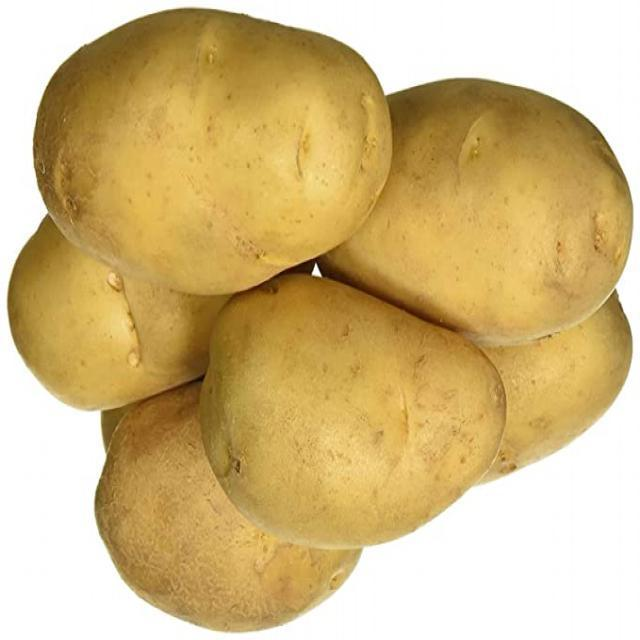potato: (35, 13, 394, 297), (321, 86, 633, 347), (205, 286, 507, 550), (94, 398, 363, 632), (6, 217, 216, 415), (474, 305, 632, 485)
